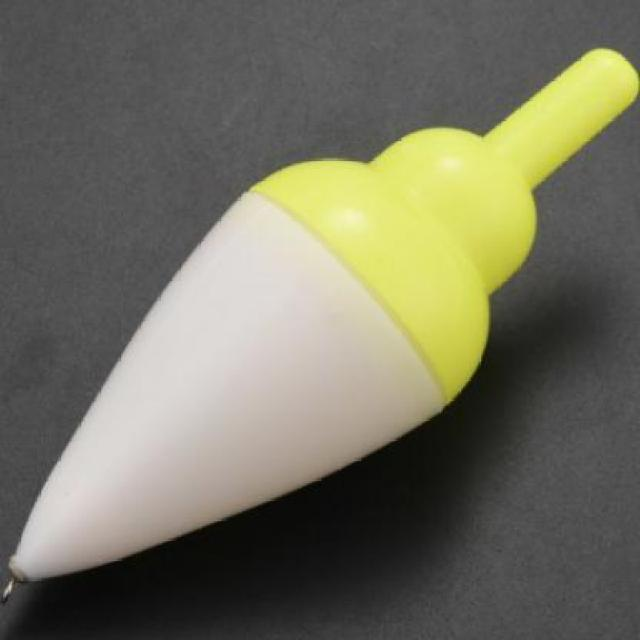a: (4, 41, 640, 603), (251, 19, 640, 422)
